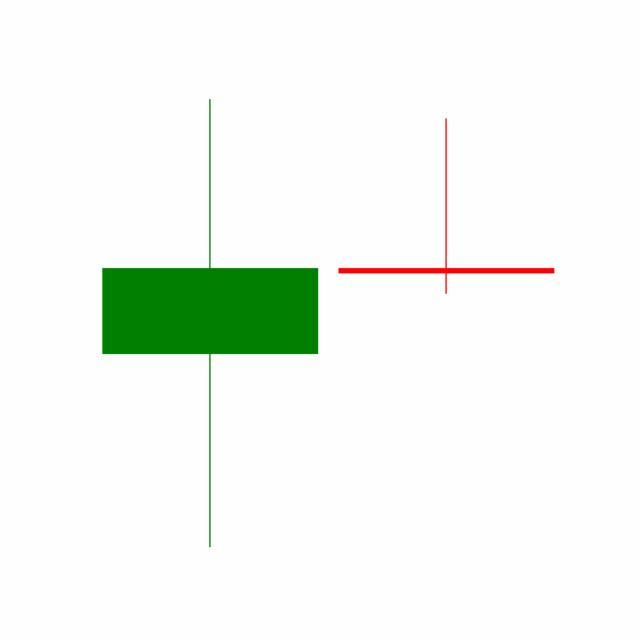Spinning Top: (327, 116, 565, 296)
